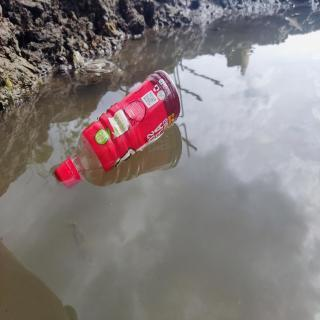bottle: (53, 64, 184, 191)
